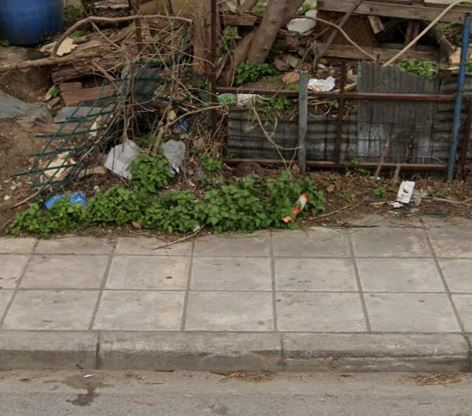trash: (210, 71, 347, 125), (104, 131, 193, 188), (30, 184, 94, 216), (275, 195, 320, 227), (393, 168, 415, 214)
